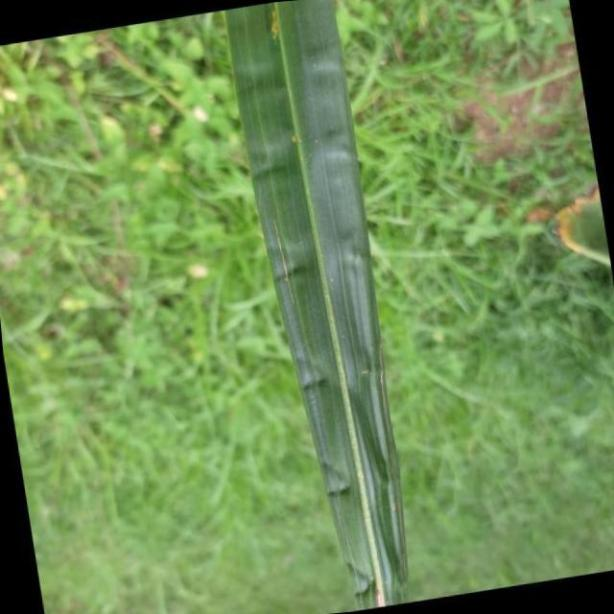Boron: (222, 0, 410, 608)
